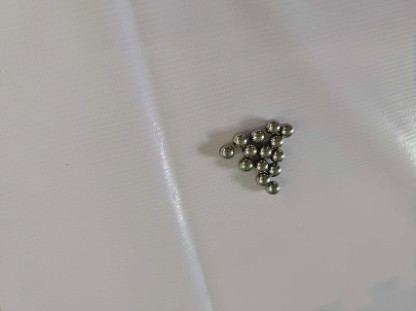ironball: (250, 127, 265, 142), (265, 181, 279, 195), (255, 171, 268, 185), (238, 157, 251, 170), (271, 148, 284, 161), (243, 143, 255, 157), (271, 134, 283, 147), (236, 132, 247, 146), (221, 145, 233, 157), (255, 158, 267, 170), (268, 121, 280, 133), (268, 162, 279, 175), (259, 145, 270, 157), (281, 122, 291, 135)
